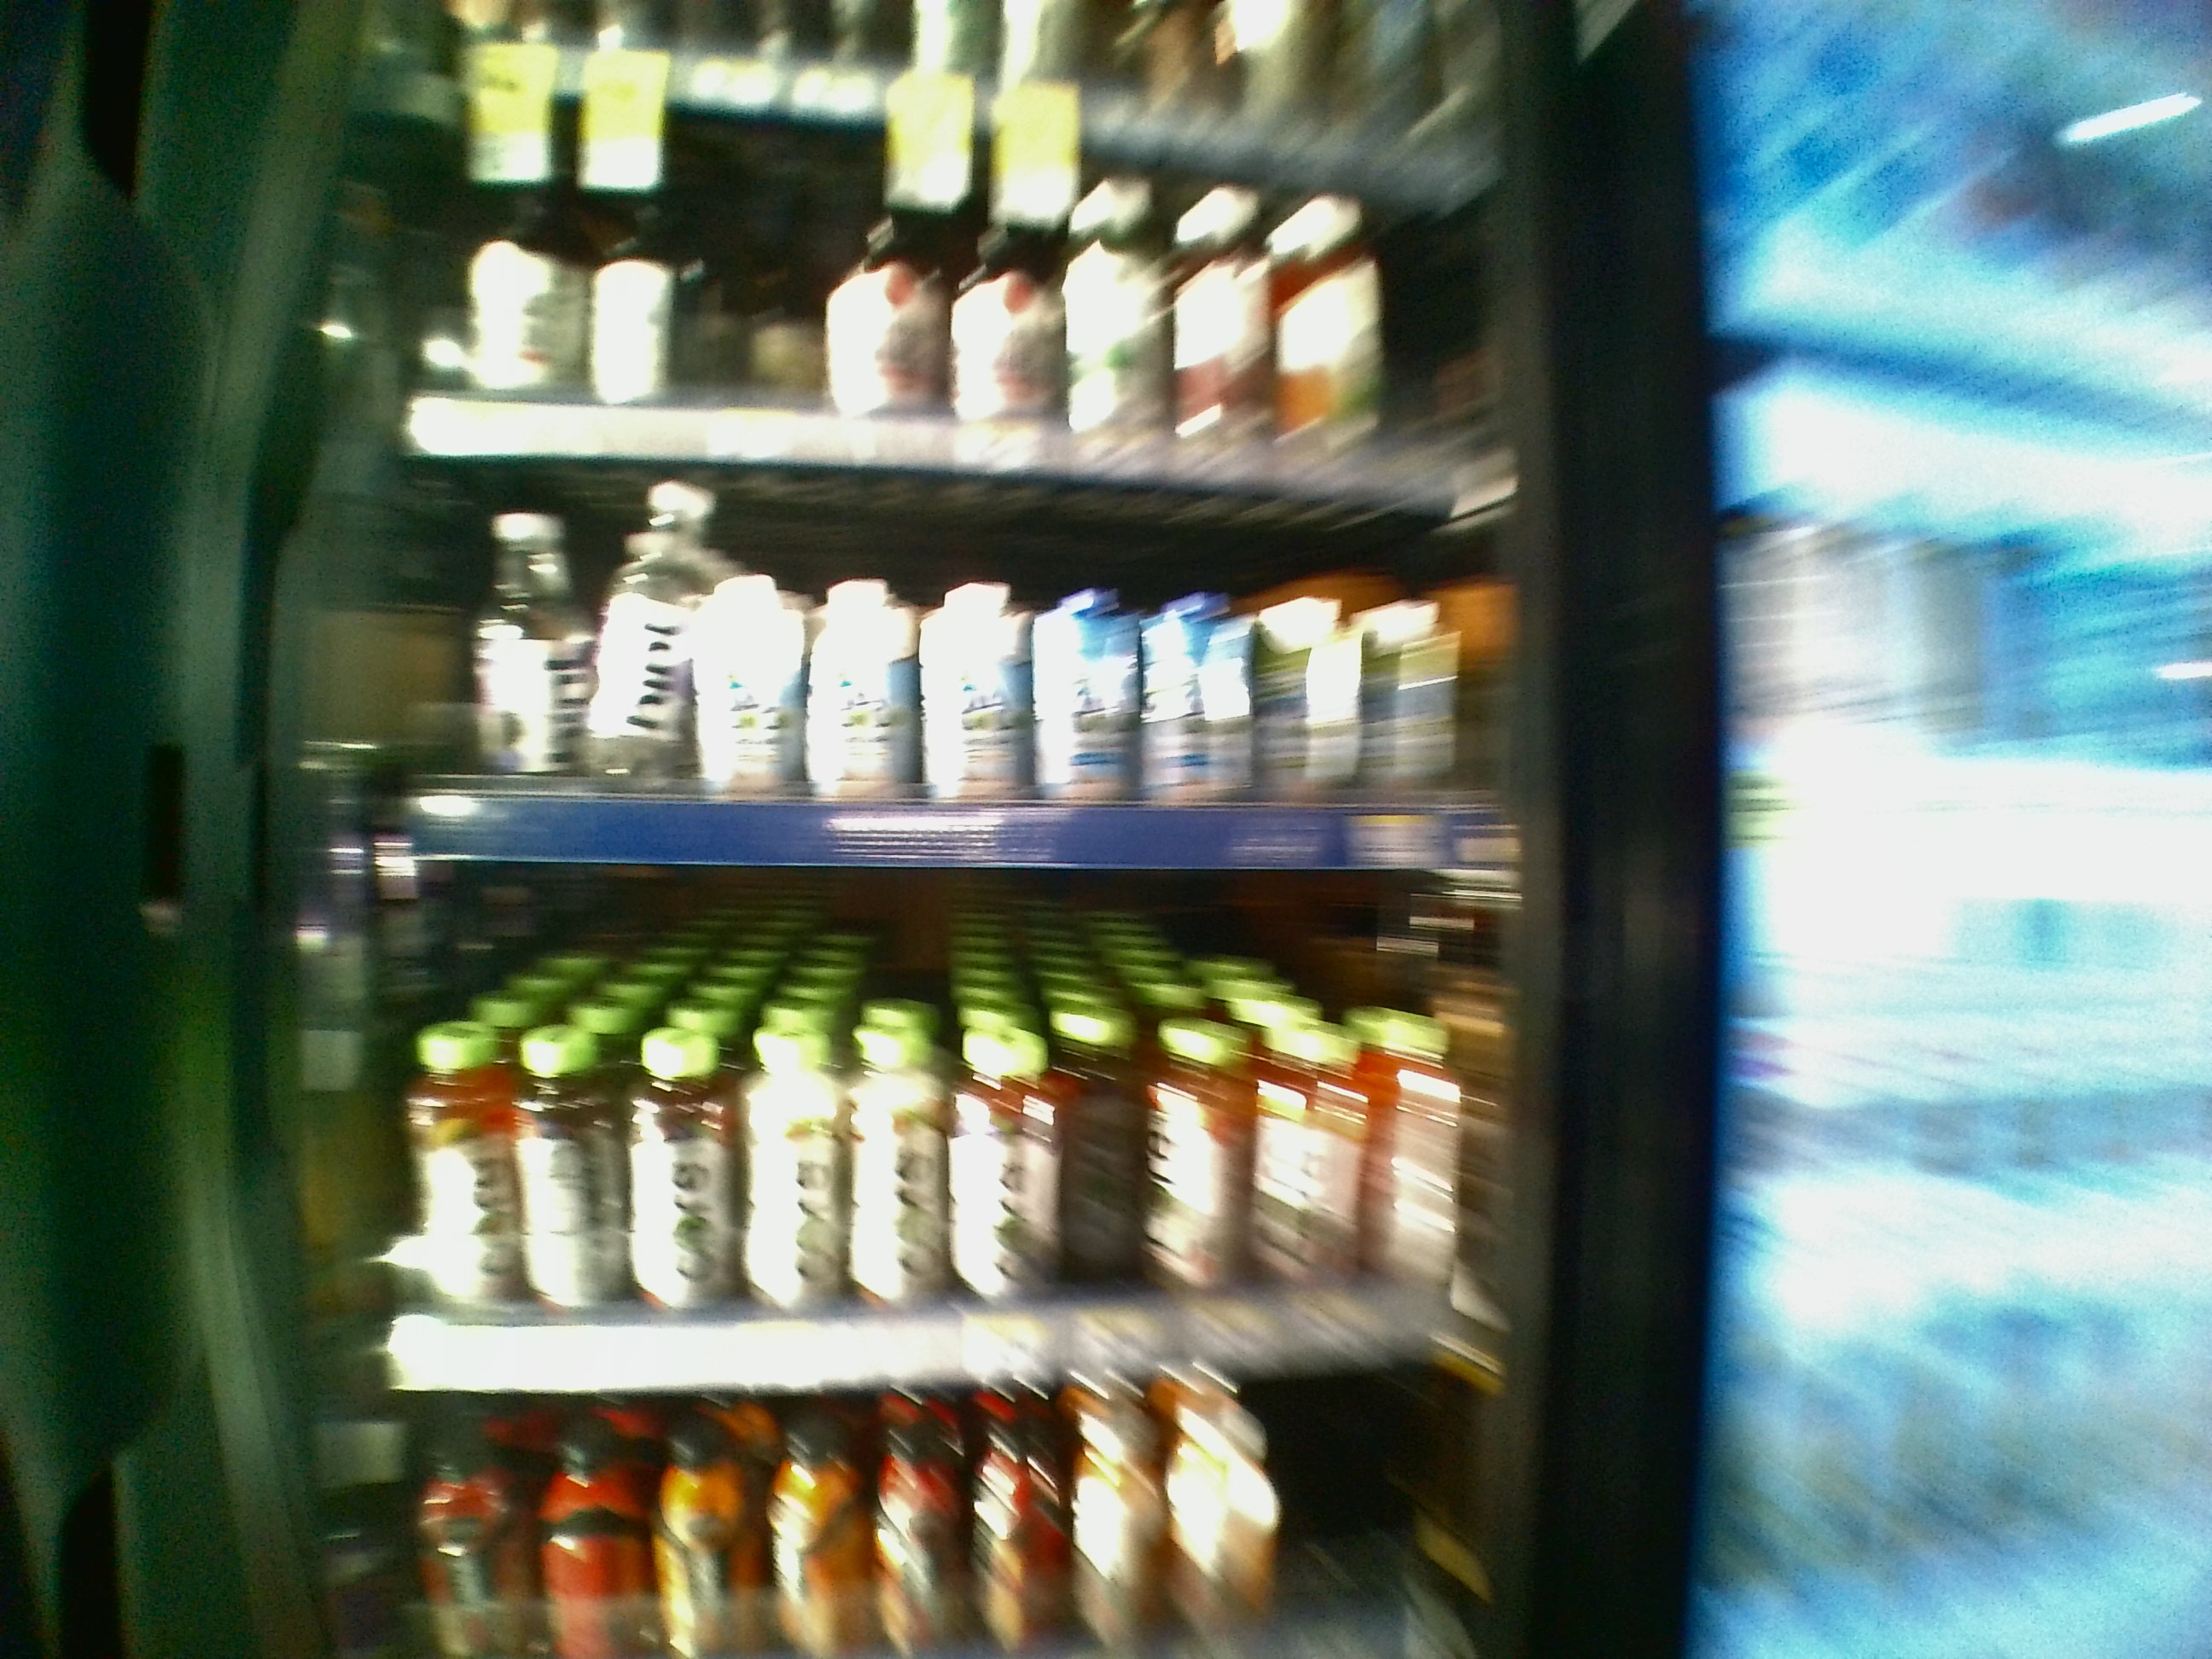shelf: (331, 866, 1529, 1371), (340, 450, 1533, 861)
